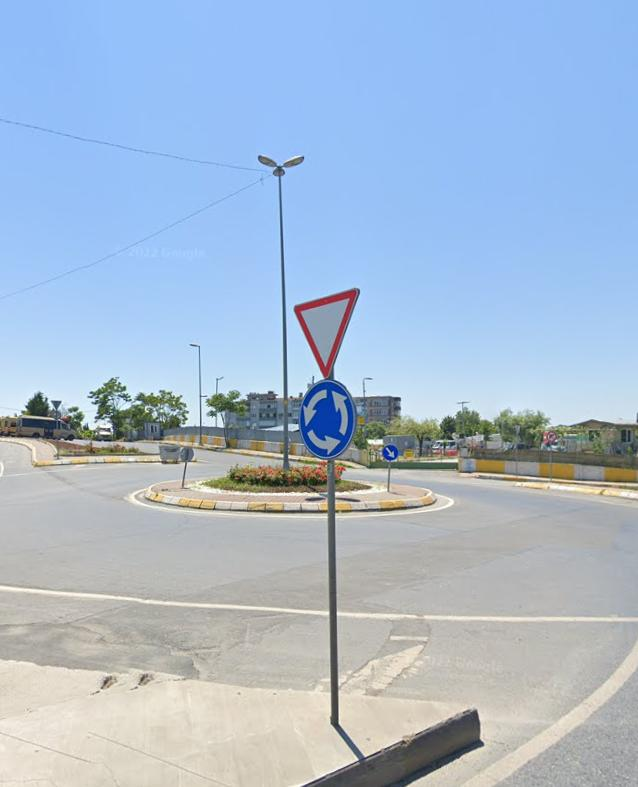crossroads: (302, 378, 356, 455)
